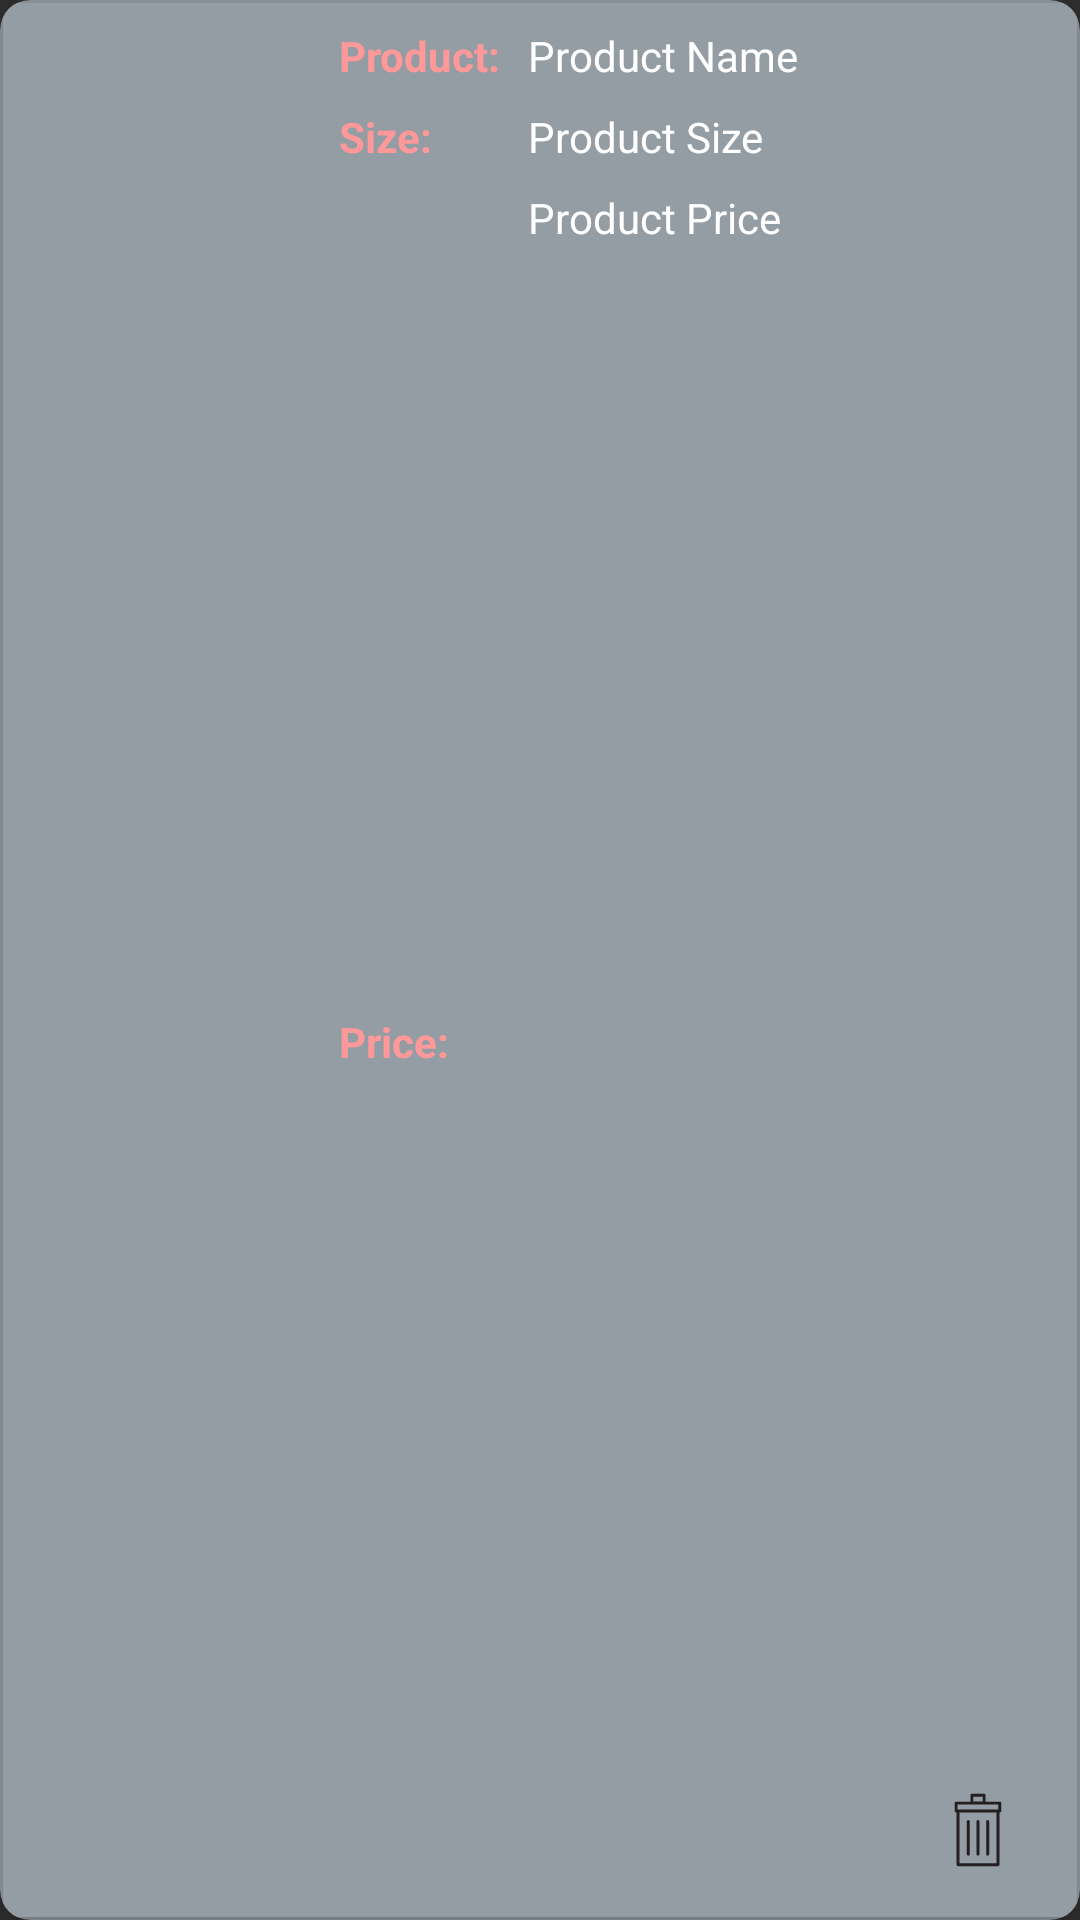

Named icons in this screenshot (1080×1920) and their centers, point (x, y):
trash: point (978, 1830)
